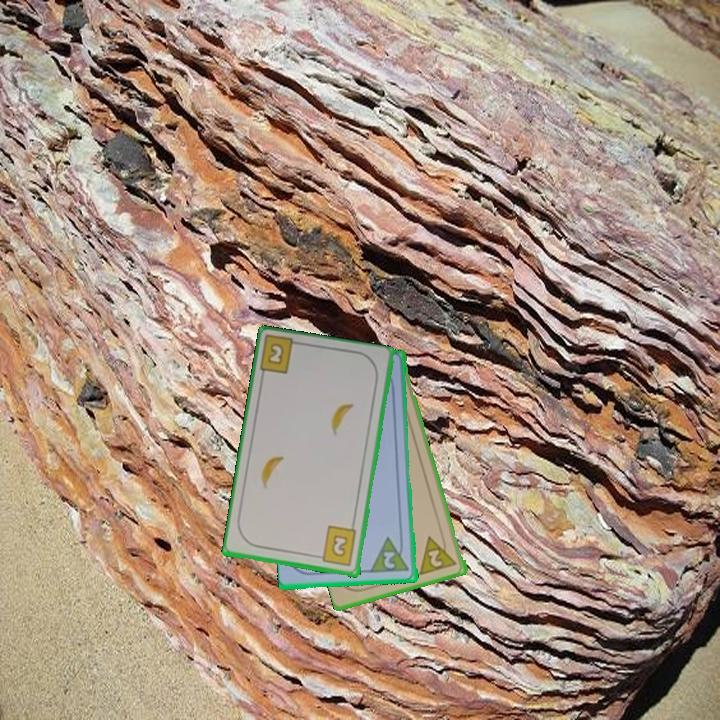2b: (313, 523, 360, 569), (264, 340, 287, 368)
2p: (417, 530, 460, 578), (368, 534, 412, 576)
